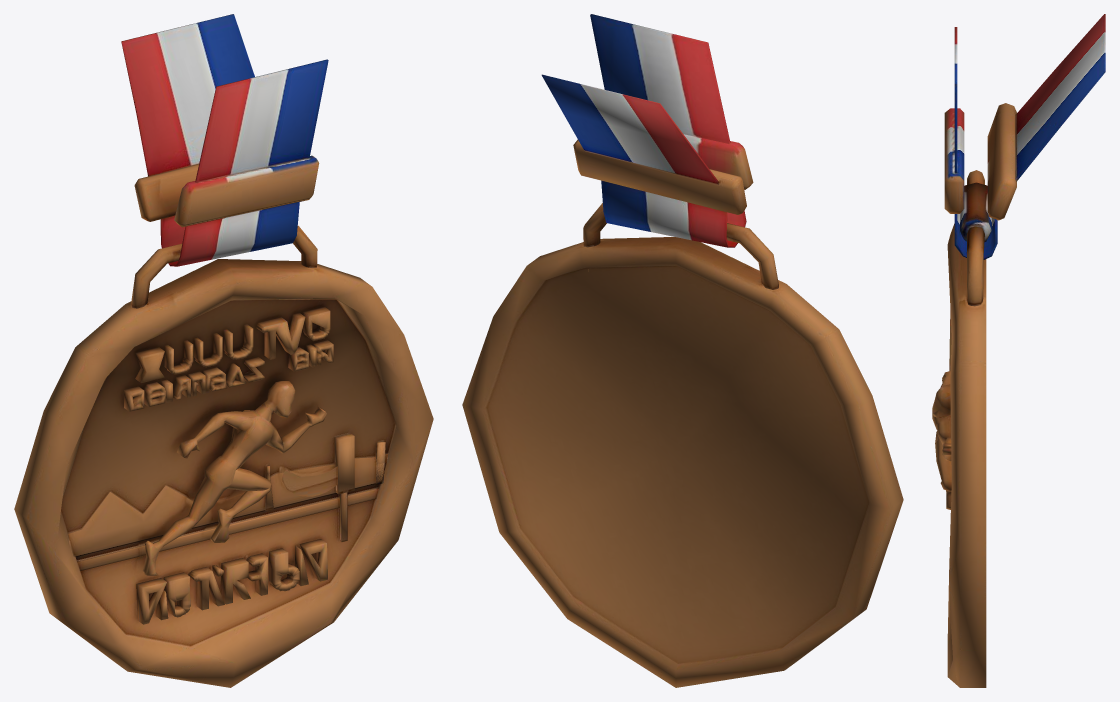
3 renders of one model, left to right at view 1: azimuth 30°, elevation 25°; view 2: azimuth 150°, elevation 25°; view 3: azimuth 270°, elevation 25°, orthographic. The views are drawn at different scales.
Visible parts, largest first — view 1: tripo_node_9ae0a54a-f61b-47e8-96b3-60bc777bf32a; view 2: tripo_node_9ae0a54a-f61b-47e8-96b3-60bc777bf32a; view 3: tripo_node_9ae0a54a-f61b-47e8-96b3-60bc777bf32a.
Boxes of the visible parts, left/top/right/bottom form: tripo_node_9ae0a54a-f61b-47e8-96b3-60bc777bf32a: left=14, top=14, right=433, bottom=687; tripo_node_9ae0a54a-f61b-47e8-96b3-60bc777bf32a: left=462, top=14, right=903, bottom=687; tripo_node_9ae0a54a-f61b-47e8-96b3-60bc777bf32a: left=932, top=14, right=1105, bottom=687.
Size of the model in its own units: 0.7012 by 0.998 by 0.2441.
Materials: 1 (1 with a texture image).
